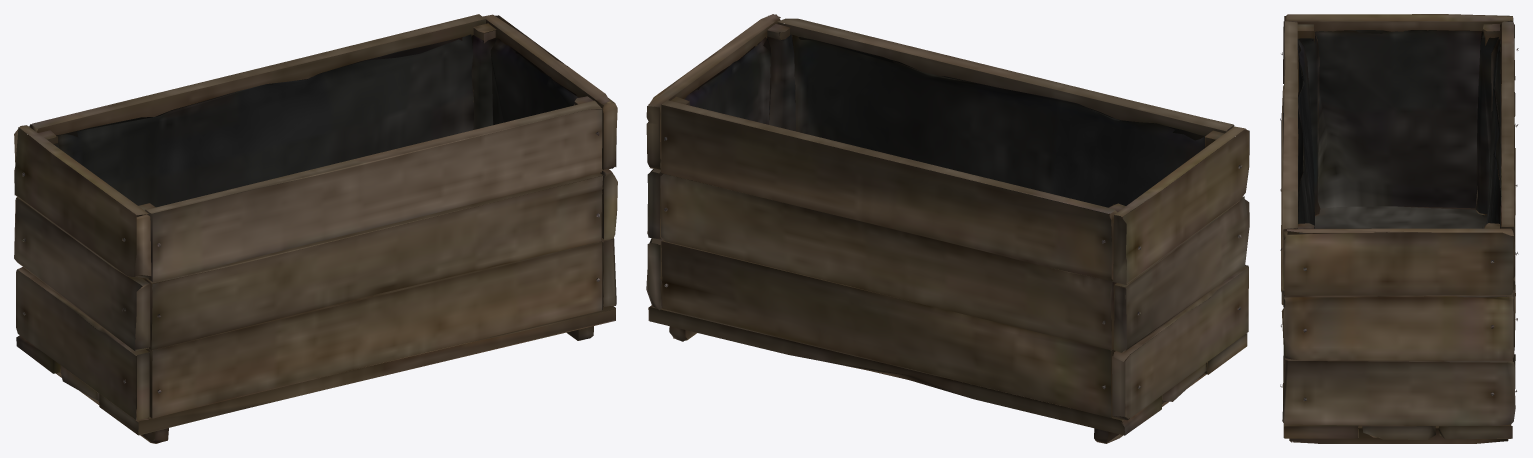
Rendered from planter_box.glb.
3 renders of one model, left to right at view 1: azimuth 30°, elevation 25°; view 2: azimuth 150°, elevation 25°; view 3: azimuth 270°, elevation 25°, orthographic. The views are drawn at different scales.
Parts seen in each view (by area): view 1: planter_box_01; view 2: planter_box_01; view 3: planter_box_01.
Boxes of the visible parts, x1,y1,x2,y2 form: planter_box_01: (14,14,617,443); planter_box_01: (646,14,1249,443); planter_box_01: (1280,14,1518,443).
Bounding box in the file's own units: 0.9185 × 0.4264 × 0.4206.
1 material, 1 textured.
